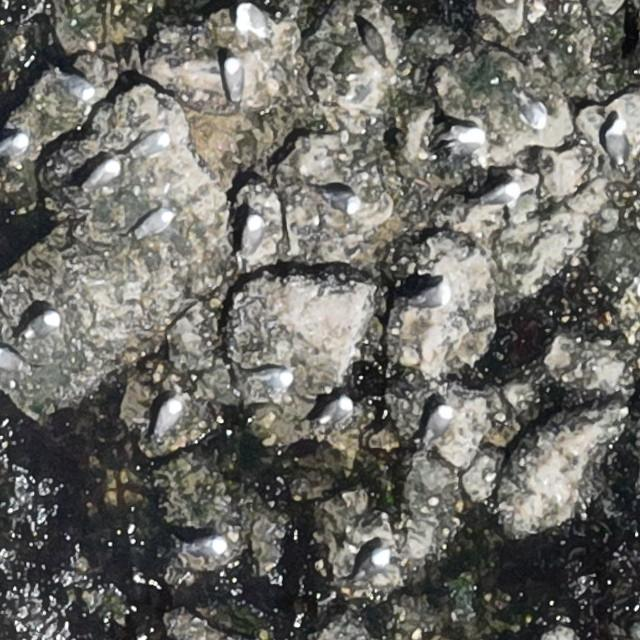umineko: (436, 127, 484, 159), (512, 90, 548, 130), (58, 68, 94, 104), (126, 132, 170, 160), (236, 4, 268, 42), (356, 549, 390, 584), (410, 284, 452, 312), (250, 368, 294, 392), (86, 158, 120, 188), (485, 180, 519, 208), (188, 537, 227, 557), (27, 312, 59, 336), (429, 405, 452, 438), (323, 397, 352, 423), (324, 190, 358, 212), (156, 400, 179, 432), (605, 125, 623, 162), (224, 58, 241, 94), (140, 212, 168, 233), (3, 133, 28, 155), (243, 217, 261, 246), (1, 348, 21, 371)
